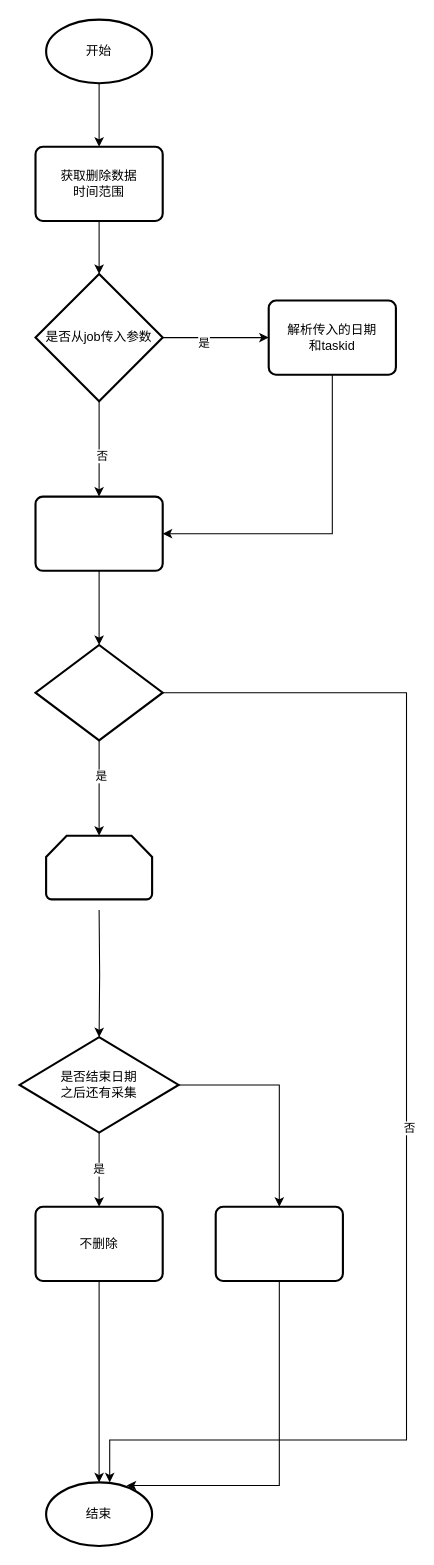
This 434x1565 diagram has some shape labels left out. Each missing label, with the centre of its shape:
依次对每个税号和taskid处理: (99,867)
分页查询待删除 时间范围内 税号和taskid: (98,533)
删除该税号和任务记录: (278,1243)
当前页<=总页数: (98,692)
